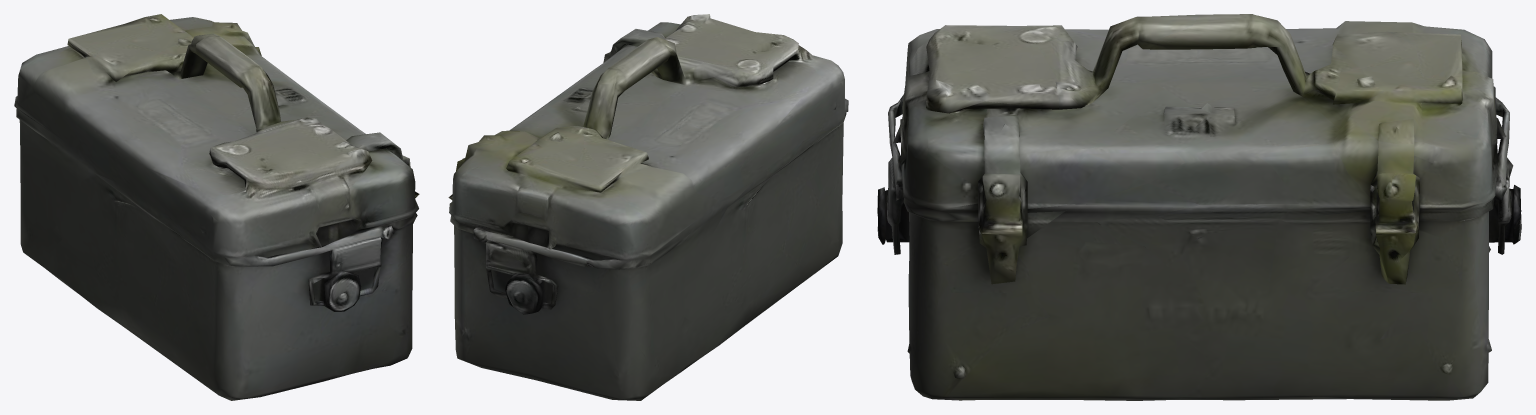
The model's file is am_rifle.glb.
3 renders of one model, left to right at view 1: azimuth 30°, elevation 25°; view 2: azimuth 150°, elevation 25°; view 3: azimuth 270°, elevation 25°, orthographic. The views are drawn at different scales.
Visible parts, largest first — view 1: tripo_node_dfacd58c-b02d-479d-87e5-d81caec627c9; view 2: tripo_node_dfacd58c-b02d-479d-87e5-d81caec627c9; view 3: tripo_node_dfacd58c-b02d-479d-87e5-d81caec627c9.
Part boxes in pixels (x1,y1,x2,y2): tripo_node_dfacd58c-b02d-479d-87e5-d81caec627c9: (14,14,419,400); tripo_node_dfacd58c-b02d-479d-87e5-d81caec627c9: (448,14,848,400); tripo_node_dfacd58c-b02d-479d-87e5-d81caec627c9: (877,14,1521,400).
Size of the model in its own units: 0.5363 by 0.5781 by 1.
1 material, 1 textured.
